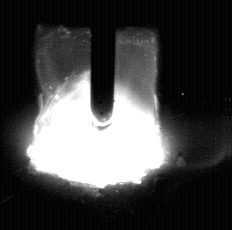arame: (91, 0, 115, 130)
poca: (33, 0, 162, 230)
